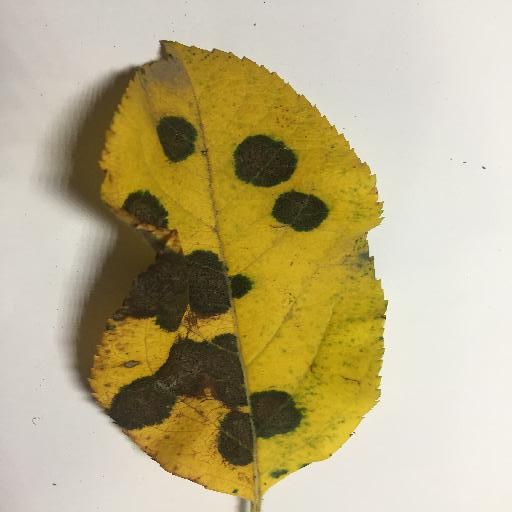Brown_Spot: (118, 202, 240, 491), (228, 130, 295, 185), (156, 118, 195, 157), (277, 199, 325, 230)
